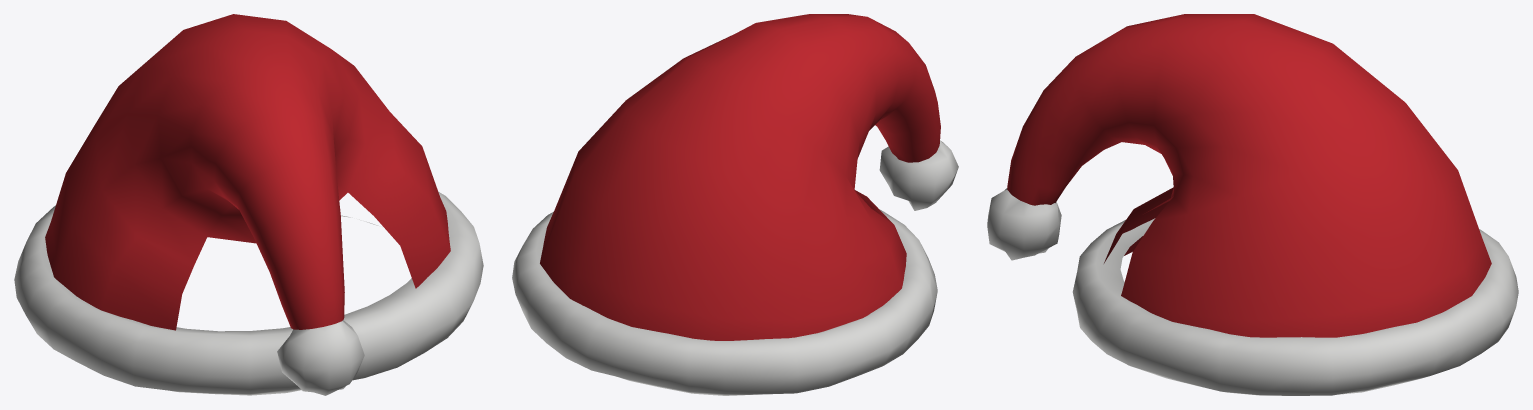
File: acc_santa_hat.glb
3 renders of one model, left to right at view 1: azimuth 30°, elevation 25°; view 2: azimuth 150°, elevation 25°; view 3: azimuth 270°, elevation 25°, orthographic. The views are drawn at different scales.
Visible parts, largest first — view 1: acc_santa_hat; view 2: acc_santa_hat; view 3: acc_santa_hat.
Boxes of the visible parts, <box> form: acc_santa_hat: <box>14,14,483,395</box>; acc_santa_hat: <box>512,14,958,395</box>; acc_santa_hat: <box>987,14,1518,395</box>.
Bounding box in the file's own units: 0.6266 × 0.454 × 0.7475.
